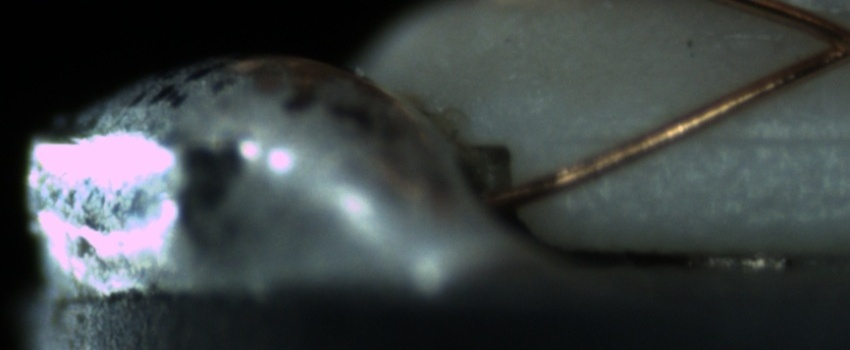CL: (799, 12, 849, 73)
DL: (556, 107, 845, 169)
